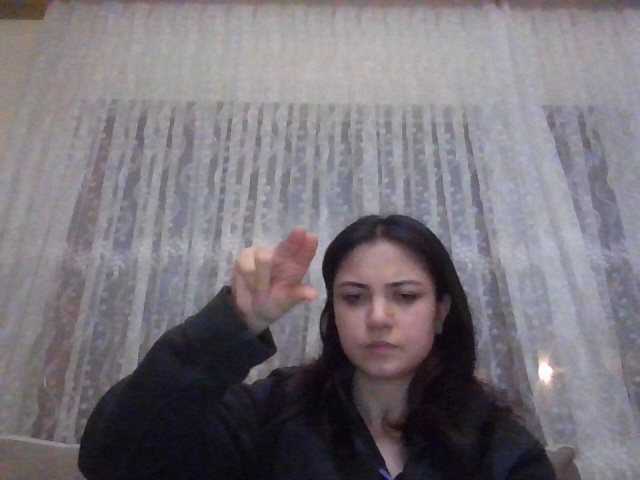no: (203, 226, 348, 341)
